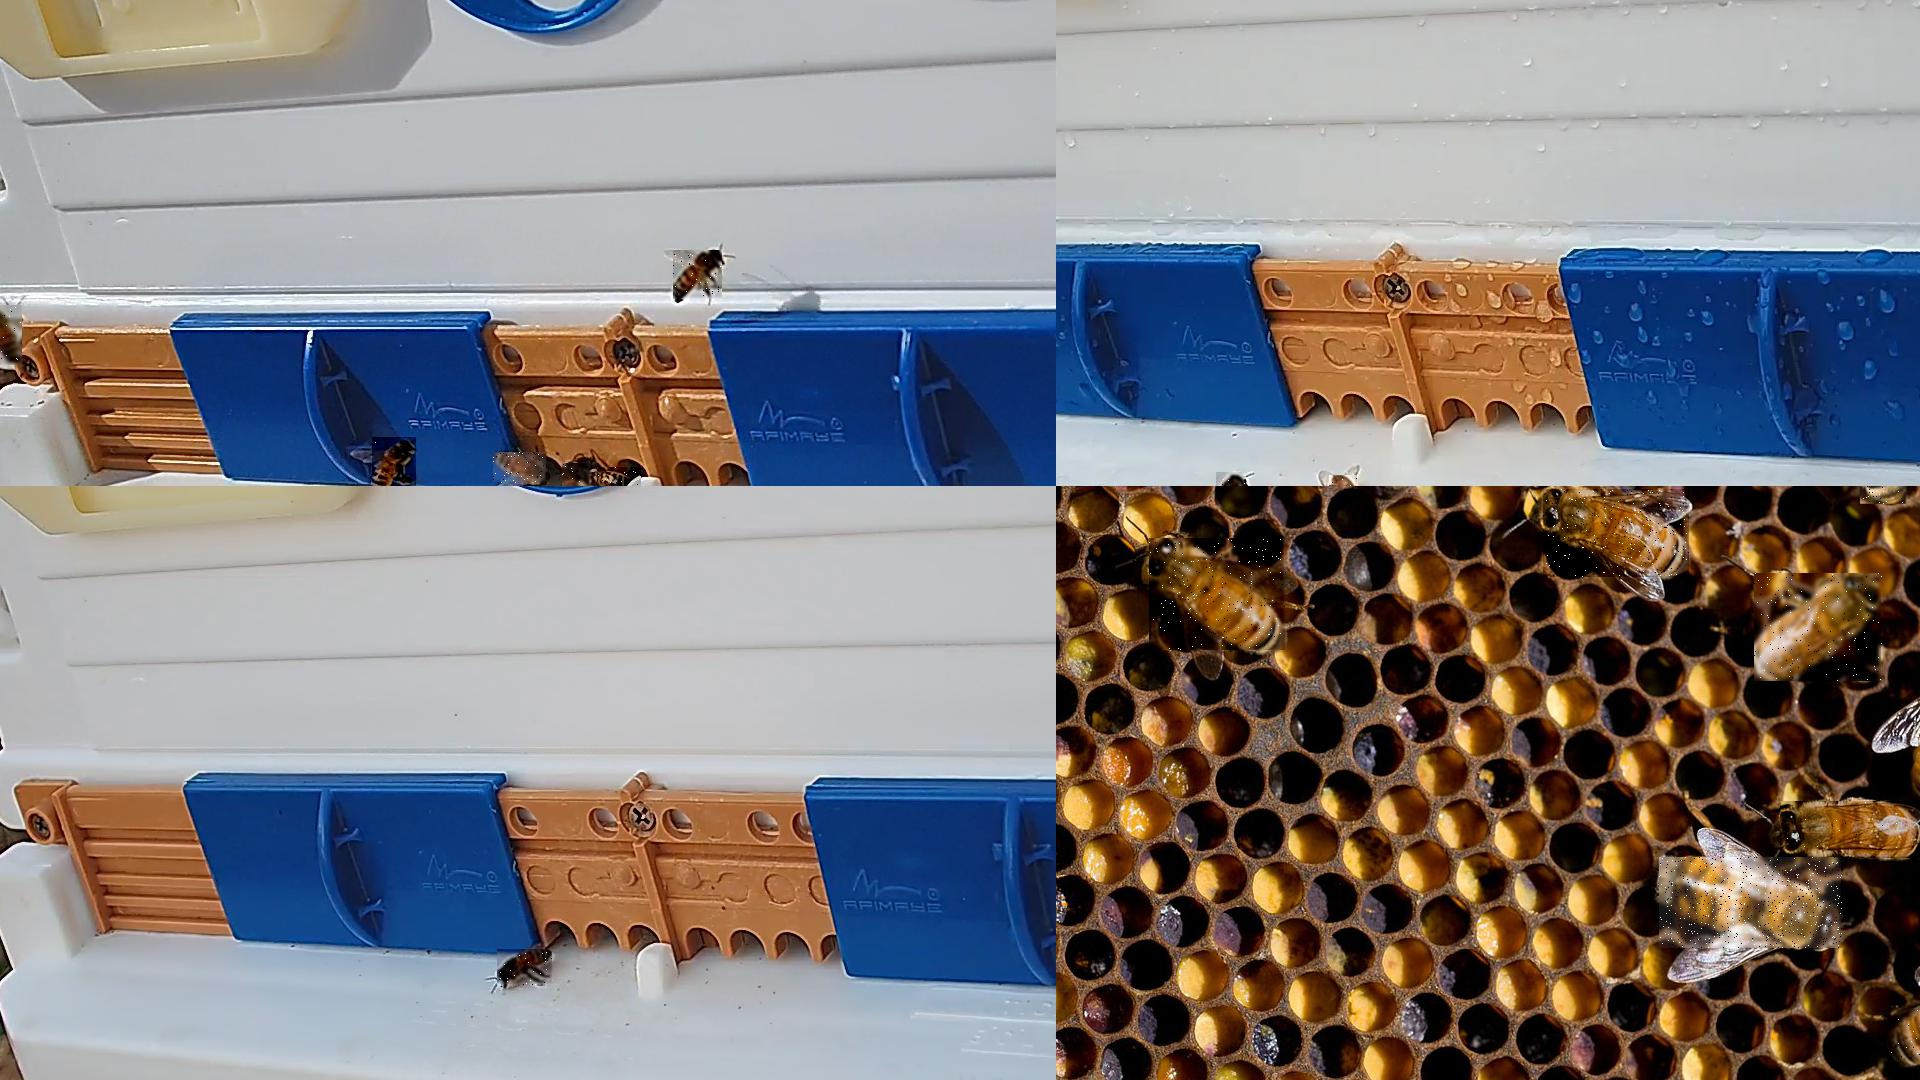bee: (1150, 538, 1288, 651), (1755, 574, 1884, 682), (1543, 489, 1691, 579), (1780, 800, 1919, 860), (673, 251, 723, 302), (372, 436, 418, 485), (497, 949, 554, 986), (493, 452, 547, 485), (1888, 1007, 1919, 1065), (0, 305, 24, 368), (1859, 487, 1911, 506), (597, 467, 644, 485), (1216, 472, 1247, 485), (1329, 475, 1360, 485)
drone: (1660, 857, 1844, 949)
pollenbee: (562, 463, 591, 485)
